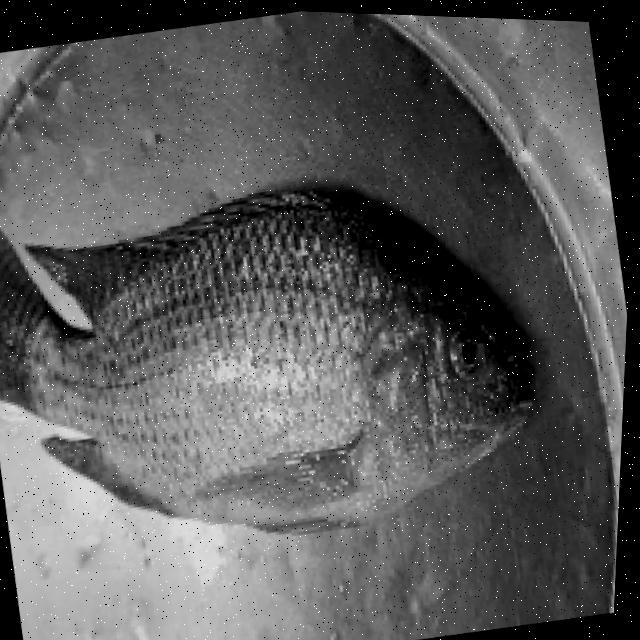Fresh: (0, 106, 577, 604)
